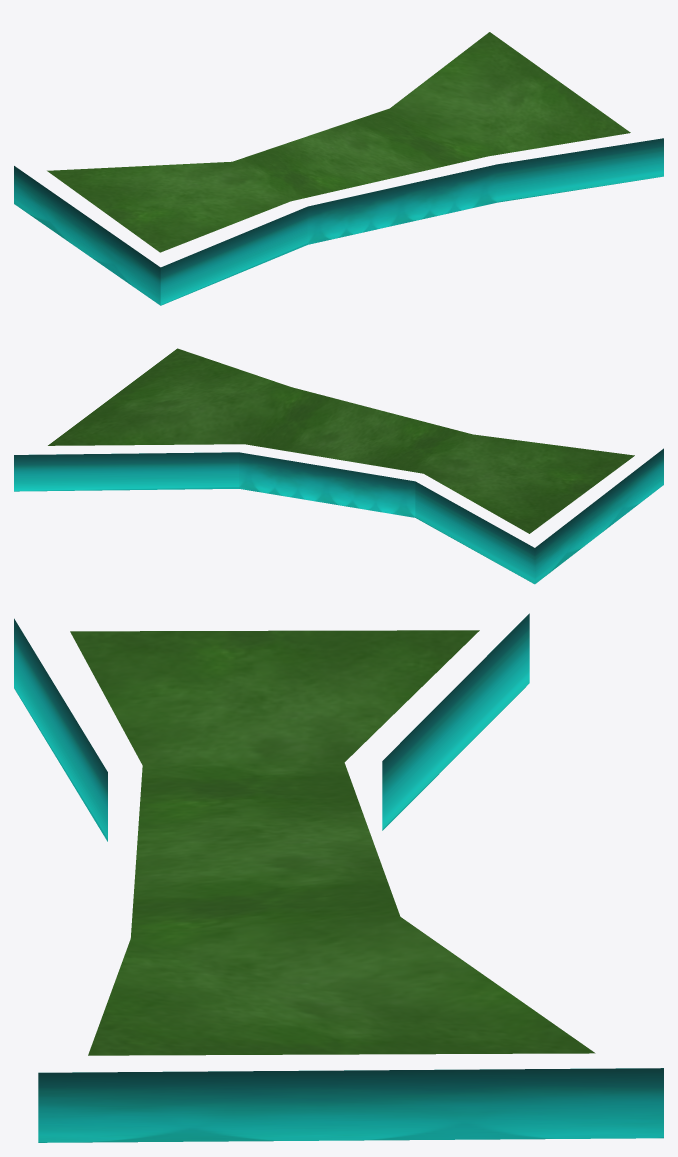
3 views of the same model, one above another, from view 1: azimuth 30°, elevation 25°; view 2: azimuth 150°, elevation 25°; view 3: azimuth 270°, elevation 25° (orthographic). The views are drawn at different scales.
Parts seen in each view (by area): view 1: Box01; view 2: Box01; view 3: Box01.
Part boxes in pixels (x1,y1,x2,y2): Box01: (14, 32, 663, 305); Box01: (14, 348, 663, 584); Box01: (14, 613, 663, 1142).
Size of the model in its own units: 1652 by 118 by 987.
3 materials, 3 textured.
